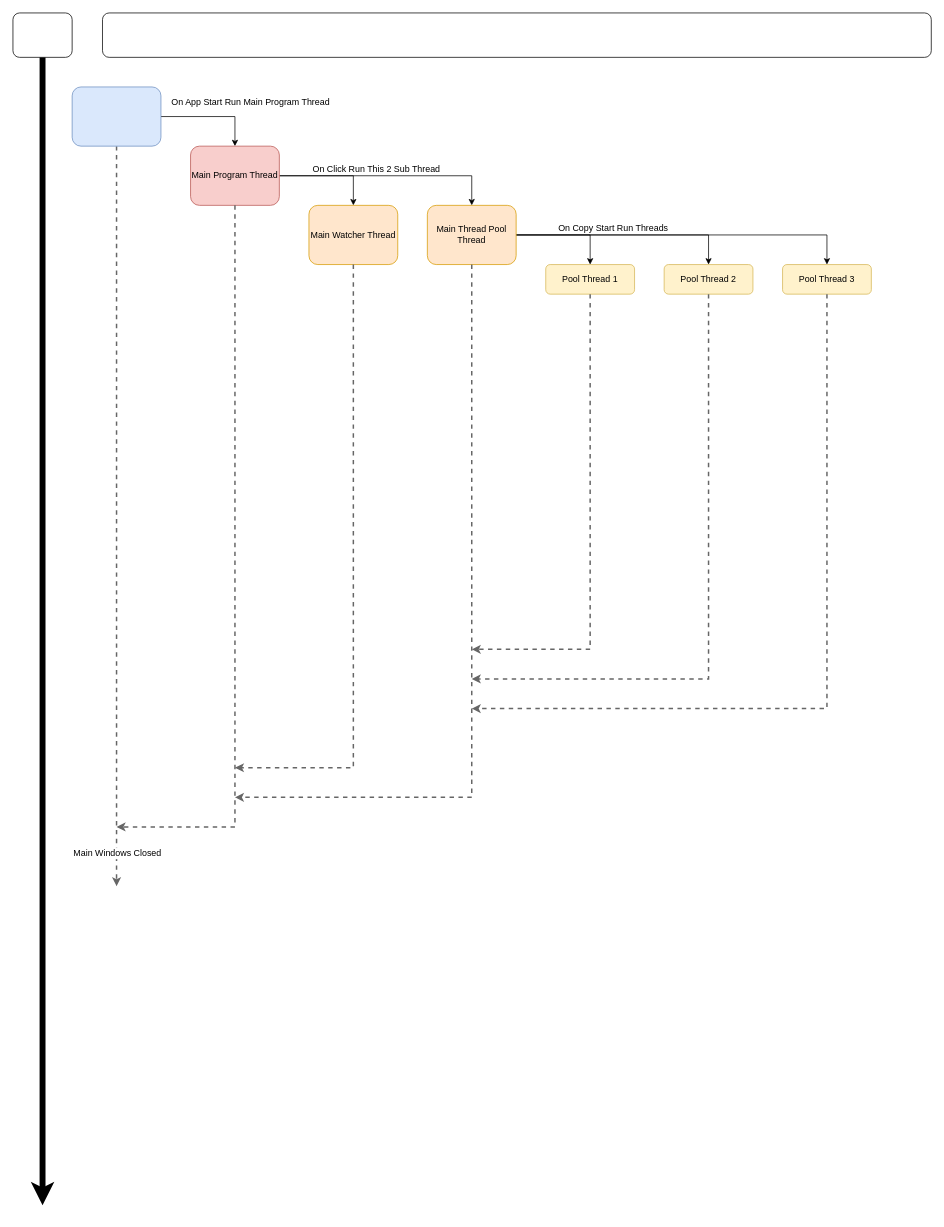
Some shapes in this 944 by 1227 pixel diagram are drawn without their labels. The shapes that lost their labels are listed below. From the top down, each one's box as (x1, y1, x2, y2) in pixels, then its label:
(12, 12, 72, 57): Execution Time
(102, 12, 931, 57): Thread Execution ideal case
(71, 86, 161, 146): TKinter GUI Thread
